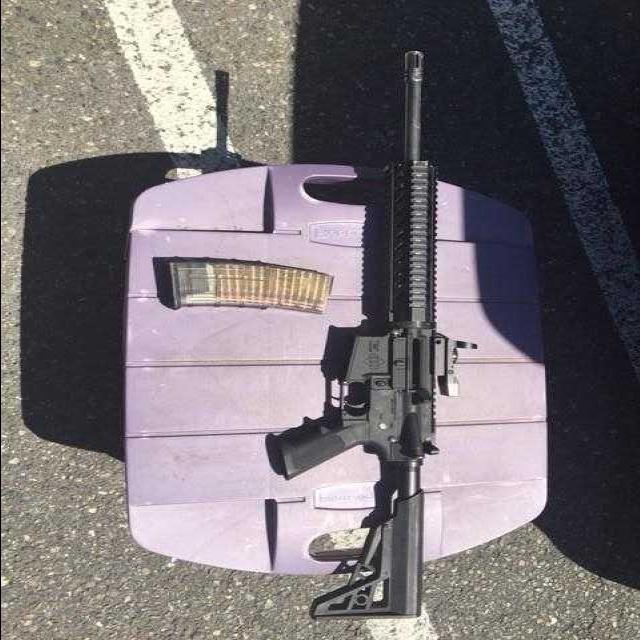heavyweapon: (260, 26, 478, 634)
